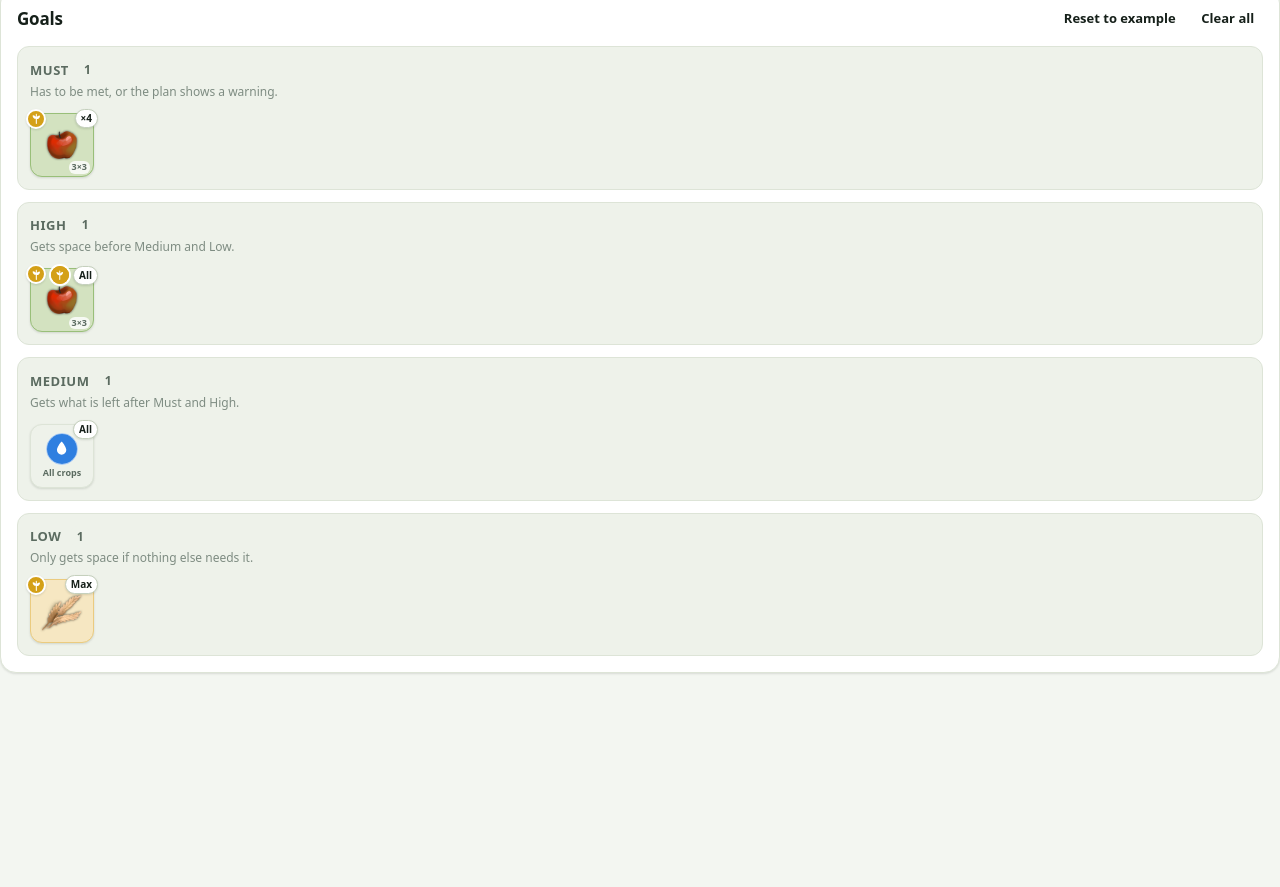
Scenario: GoalsBoard popover › opens on click, closes on Escape
Step 1. Click the button with aria-label "Wheat · Quantity · Maximize" → click(62, 611), box [30, 579, 94, 643]
(page scrolled)
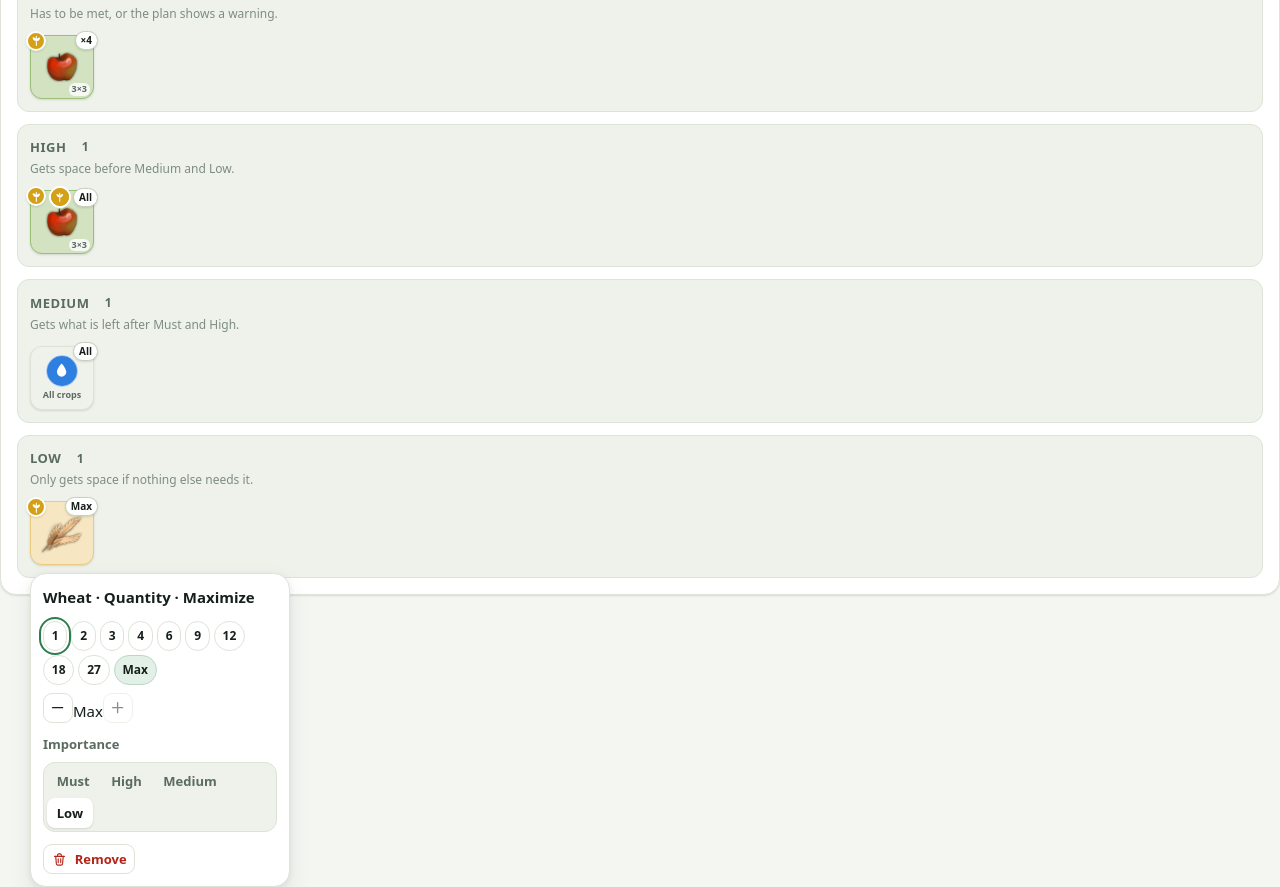
Now the dialog is shown, box [30, 573, 290, 886]
Step 2. Press Escape
(page scrolled)
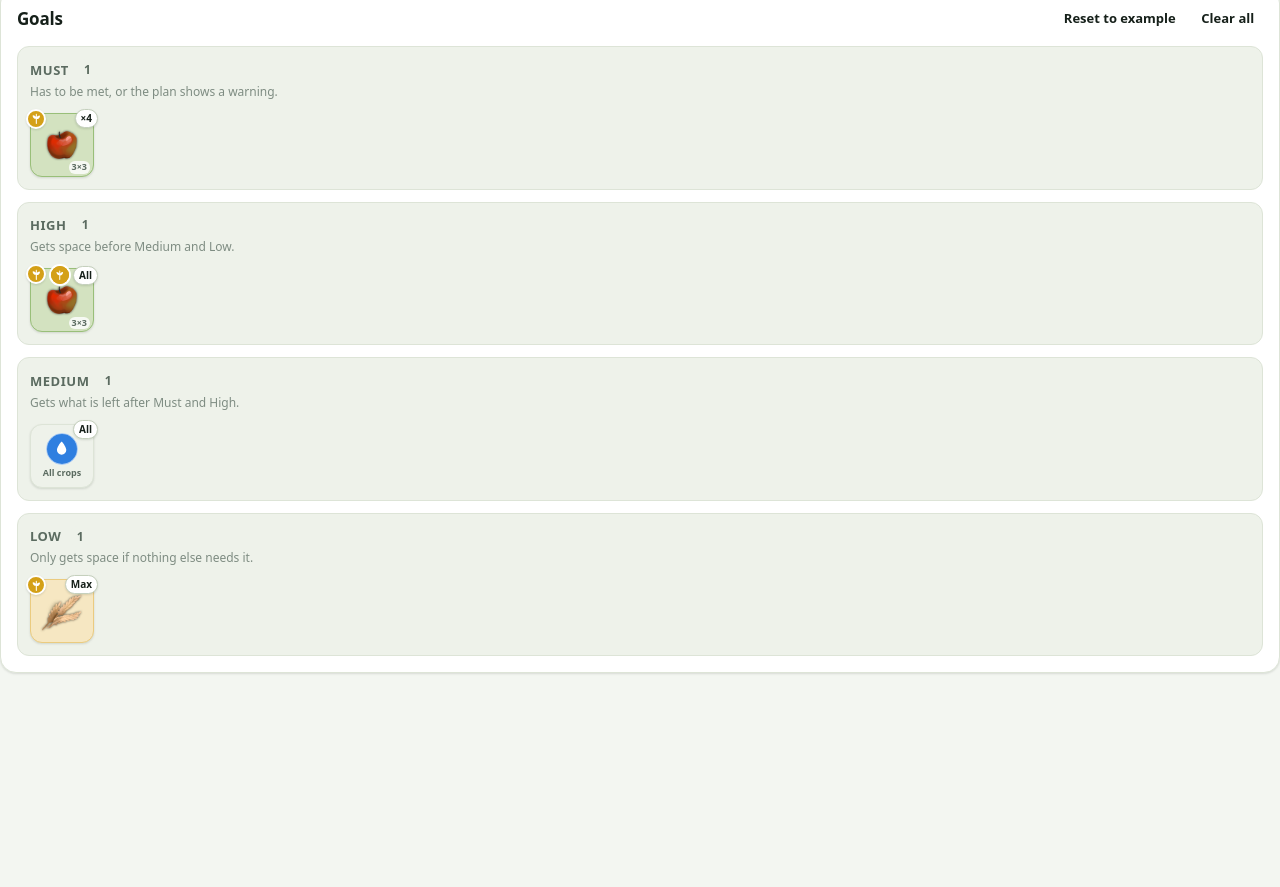
Now the dialog is gone
